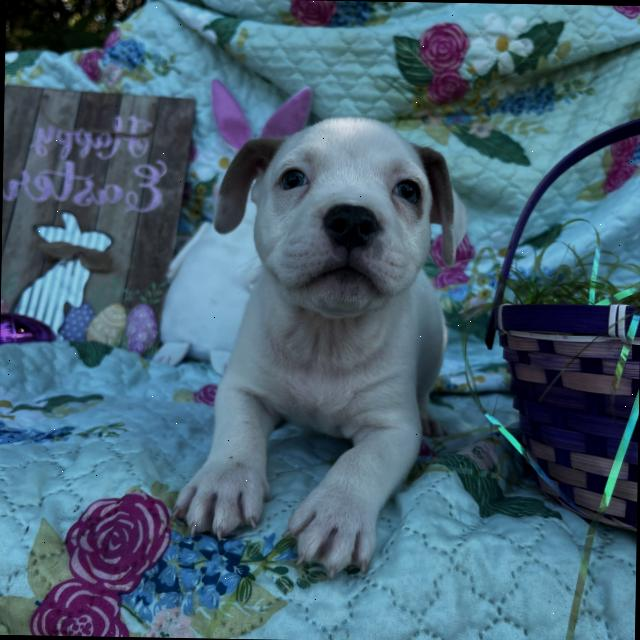french_bulldog_dog: (200, 112, 474, 333)
